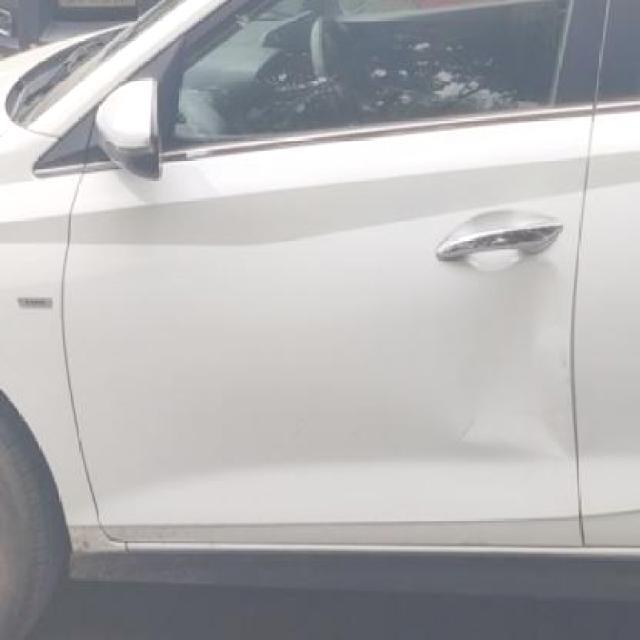minor: (418, 257, 565, 458)
